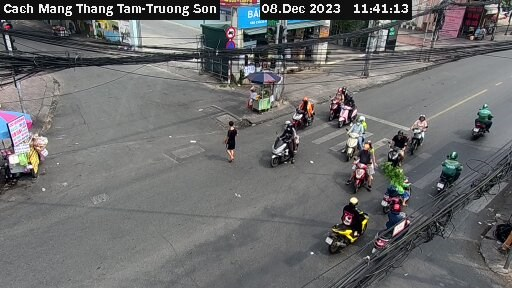motorbike: (319, 200, 371, 251), (372, 209, 414, 256), (267, 127, 313, 169), (428, 153, 466, 199), (381, 171, 416, 211), (466, 103, 498, 142), (380, 130, 414, 166), (348, 153, 380, 191), (407, 113, 438, 150), (337, 122, 372, 151), (290, 99, 325, 126), (336, 99, 360, 121), (326, 90, 349, 109)
